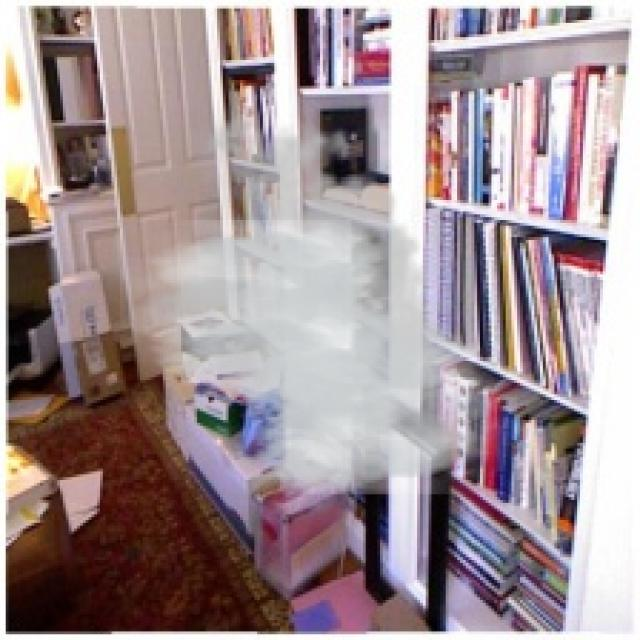smoke: (120, 103, 517, 494)
